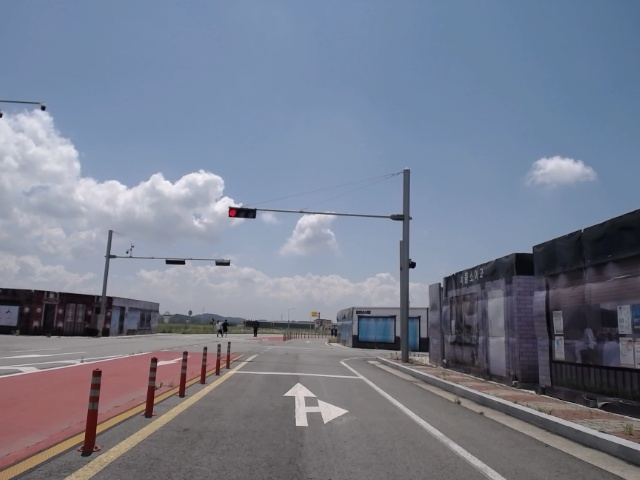red_3: (229, 206, 257, 220)
